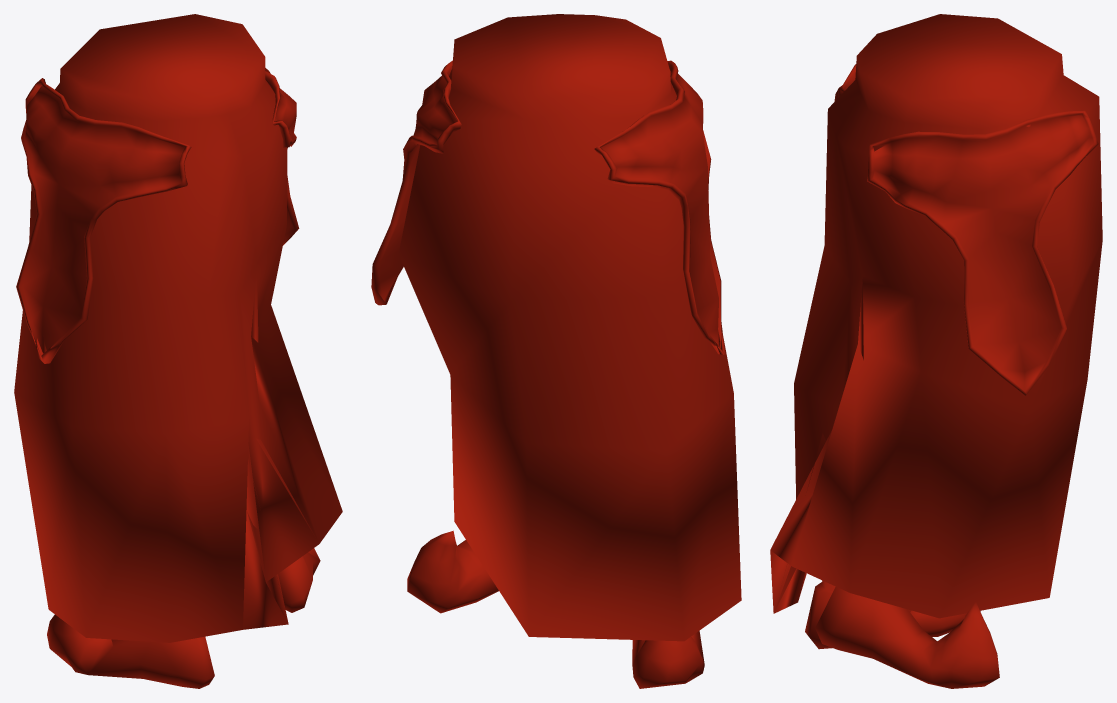
Rendered from bot_000028.obj.
The picture shows the model from 3 angles, left to right: view 1: azimuth 30°, elevation 25°; view 2: azimuth 150°, elevation 25°; view 3: azimuth 270°, elevation 25°; orthographic projection. The views are drawn at different scales.
Visible parts, largest first — view 1: LowPoly_Warlock.004_Plane.004; view 2: LowPoly_Warlock.004_Plane.004; view 3: LowPoly_Warlock.004_Plane.004.
Part boxes in pixels (left/top/right/bottom): LowPoly_Warlock.004_Plane.004: left=14, top=14, right=342, bottom=688; LowPoly_Warlock.004_Plane.004: left=371, top=14, right=741, bottom=688; LowPoly_Warlock.004_Plane.004: left=770, top=14, right=1102, bottom=688.
Size of the model in its own units: 0.558 by 1.09 by 0.5373.
